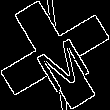M_NW: (22, 21, 88, 89)
